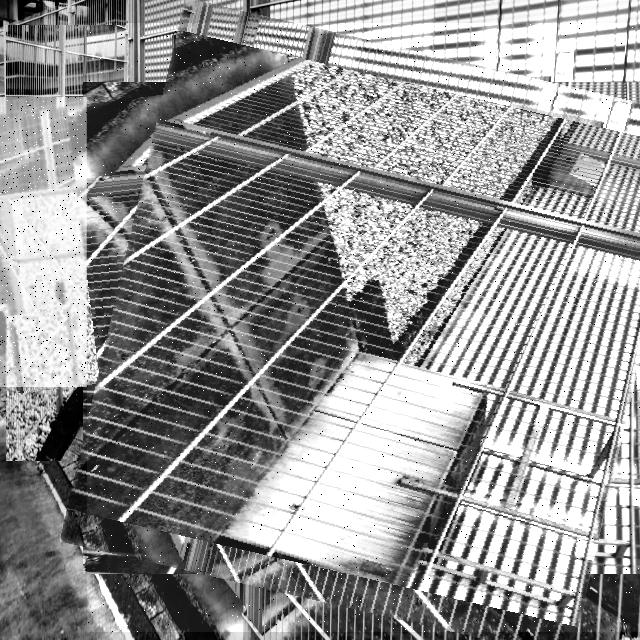fences: (87, 23, 640, 632), (0, 97, 214, 387)
